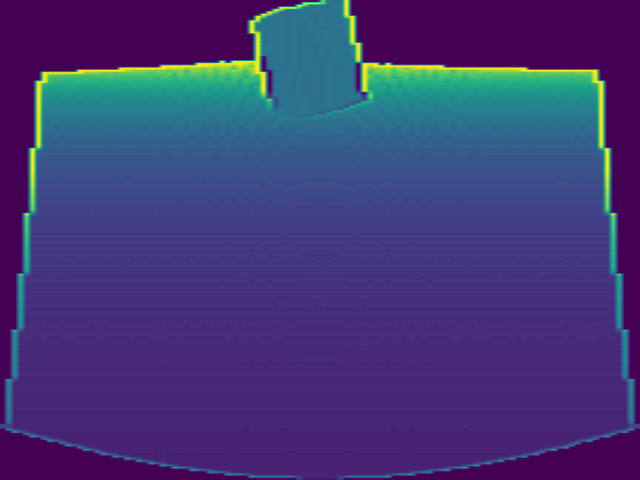cylinder: (245, 1, 372, 121)
